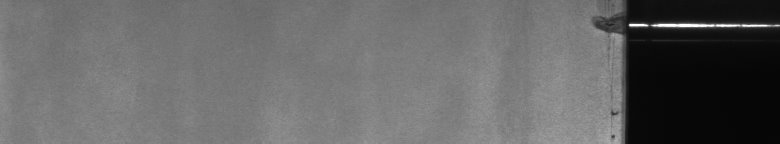hb: (584, 4, 616, 136)
